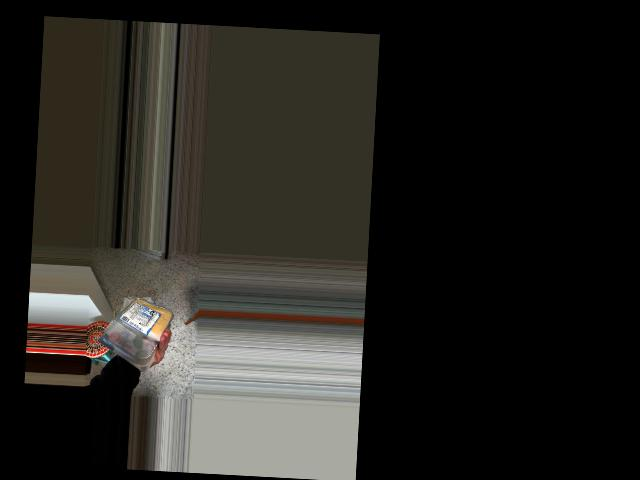cheese: (96, 289, 164, 367)
